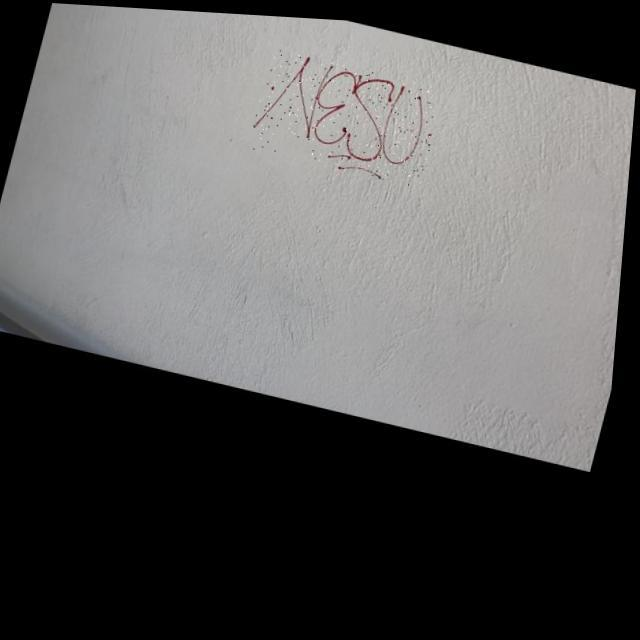-: (248, 44, 448, 184)
